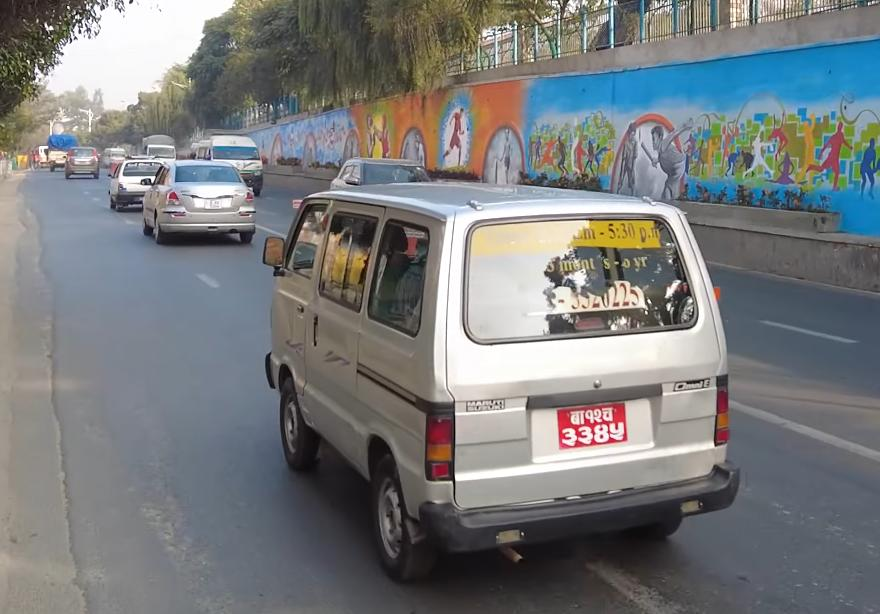car: (138, 155, 259, 247)
micro_bus: (201, 127, 268, 194)
taxi: (106, 159, 173, 210)
van: (258, 172, 754, 599)
